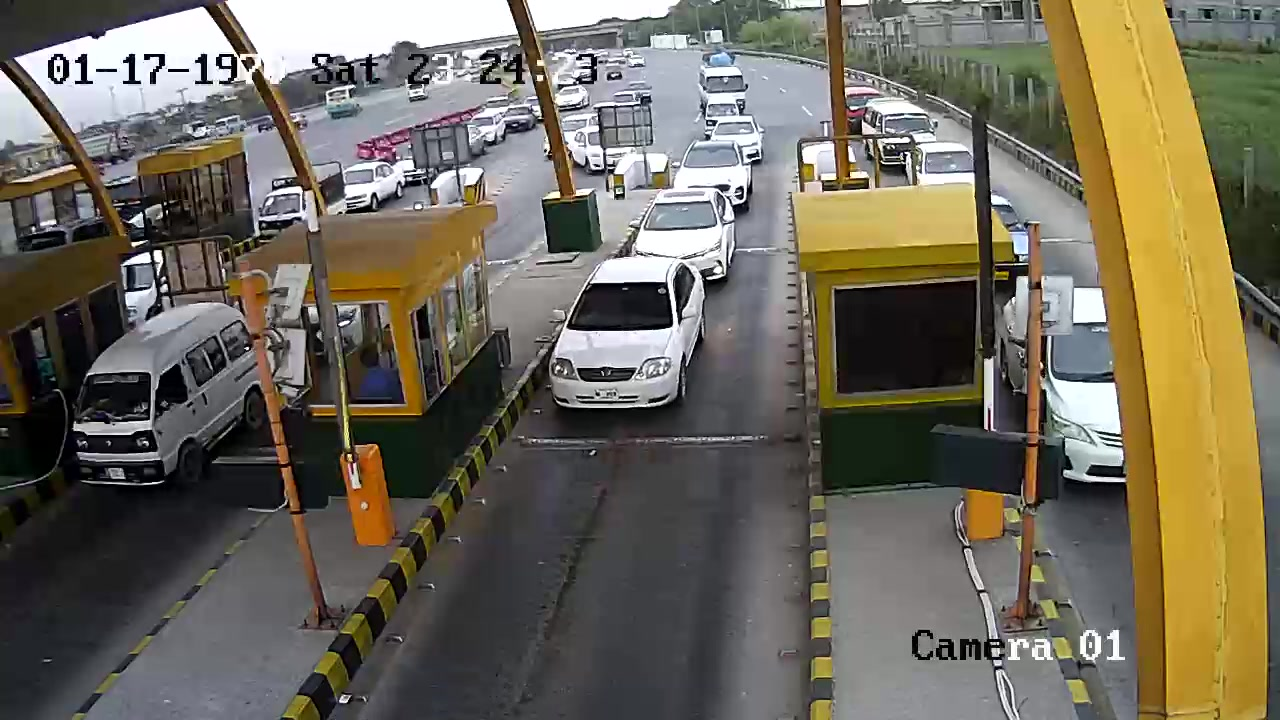F1: (548, 250, 707, 418)
